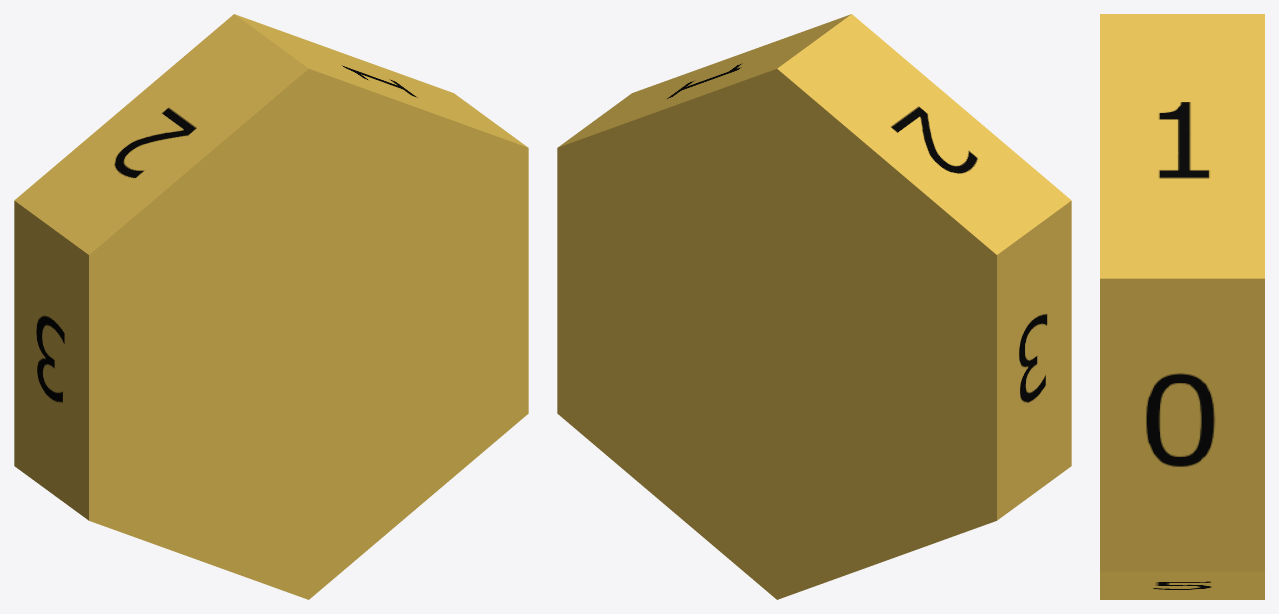
The model's file is botoes_cofre3D.glb.
The picture shows the model from 3 angles, left to right: view 1: azimuth 30°, elevation 25°; view 2: azimuth 150°, elevation 25°; view 3: azimuth 270°, elevation 25°; orthographic projection. The views are drawn at different scales.
Visible parts, largest first — view 1: cofre_botoes; view 2: cofre_botoes; view 3: cofre_botoes.
Part boxes in pixels (left/top/right/bottom): cofre_botoes: left=14, top=14, right=528, bottom=599; cofre_botoes: left=557, top=14, right=1071, bottom=599; cofre_botoes: left=1100, top=14, right=1264, bottom=599.
Bounding box in the file's own units: 0.3883 × 0.4484 × 0.1143.
1 material, 1 textured.
